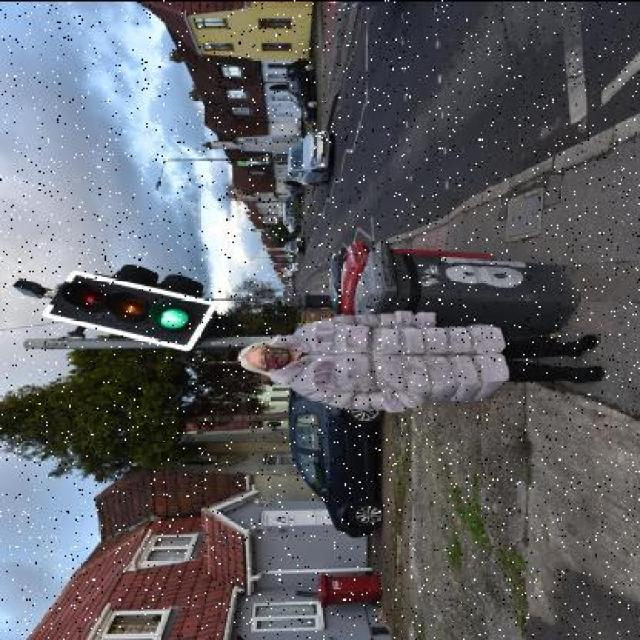green-light: (32, 265, 240, 376)
